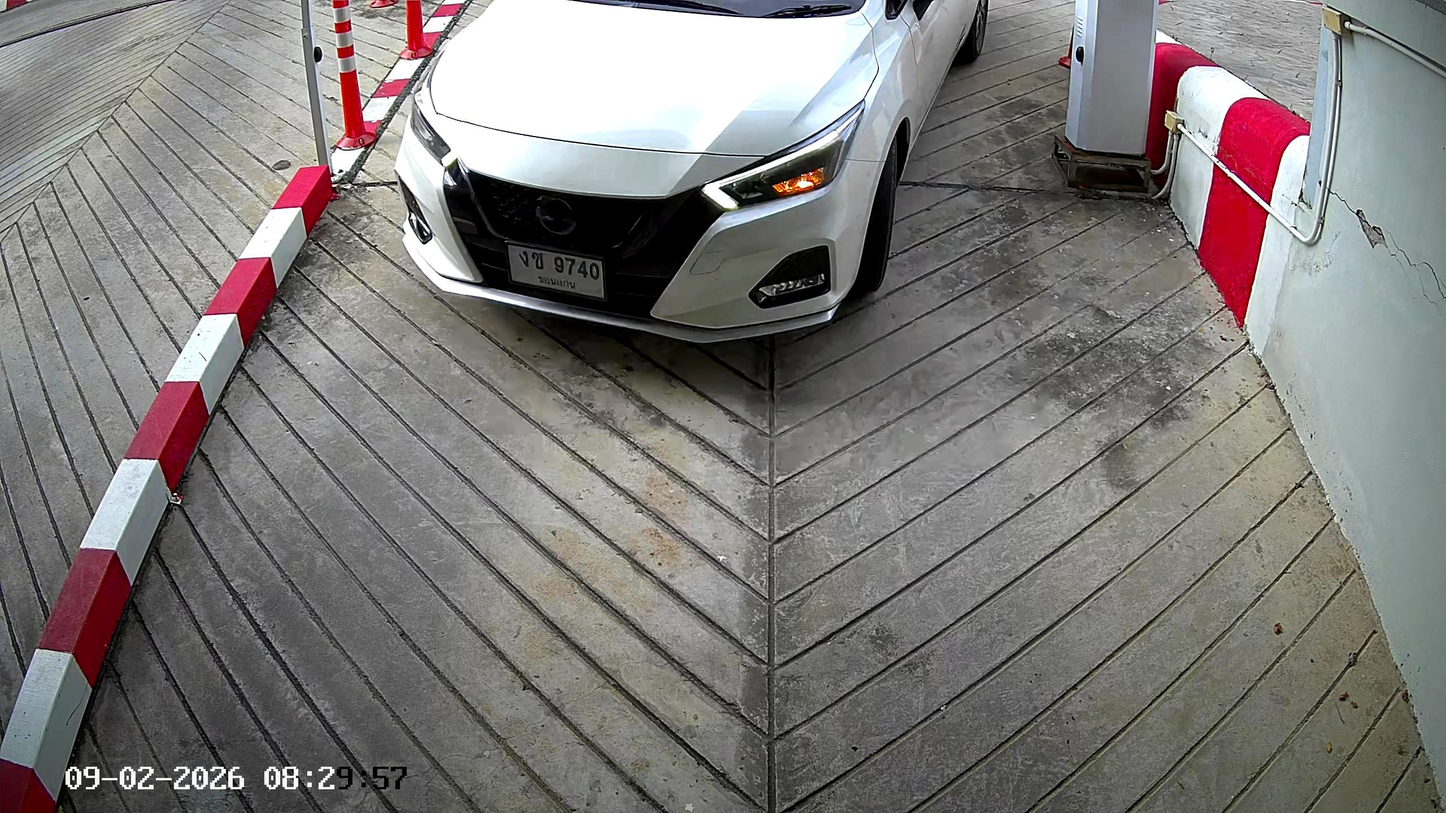car: (397, 2, 990, 348)
license-plate: (505, 237, 610, 305)
